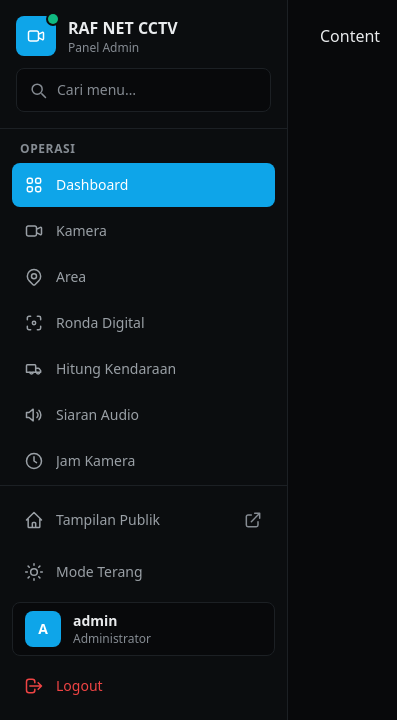
Scenario: AdminLayout shell › narrows the sidebar with the nav search
The width and height of the screenshot is (397, 720).
Expected: the link "Dashboard" is shown, [12,163,275,207]
In the search field named "Cari menu admin": (144, 90) [16,68,271,112], type "arsip"
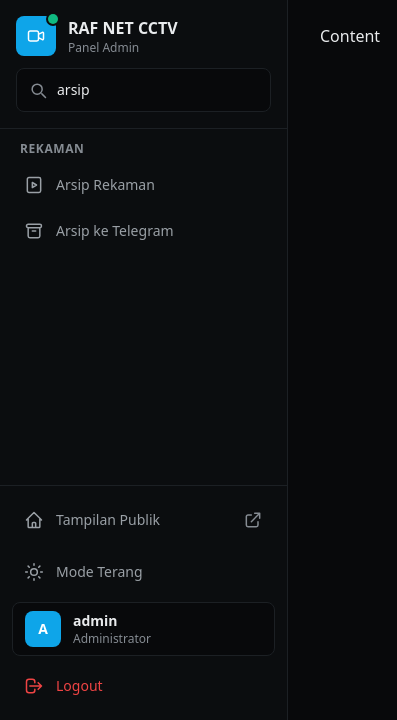
Expected: the link "Arsip ke Telegram" is shown, [24,221,174,241]
Expected: the link "Dashboard" is gone
Expected: the text "Operasi" is gone
